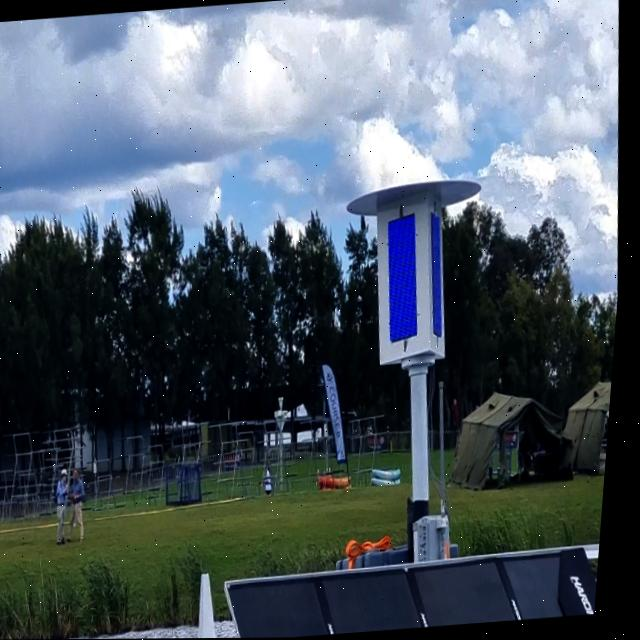led: (375, 206, 438, 352)
